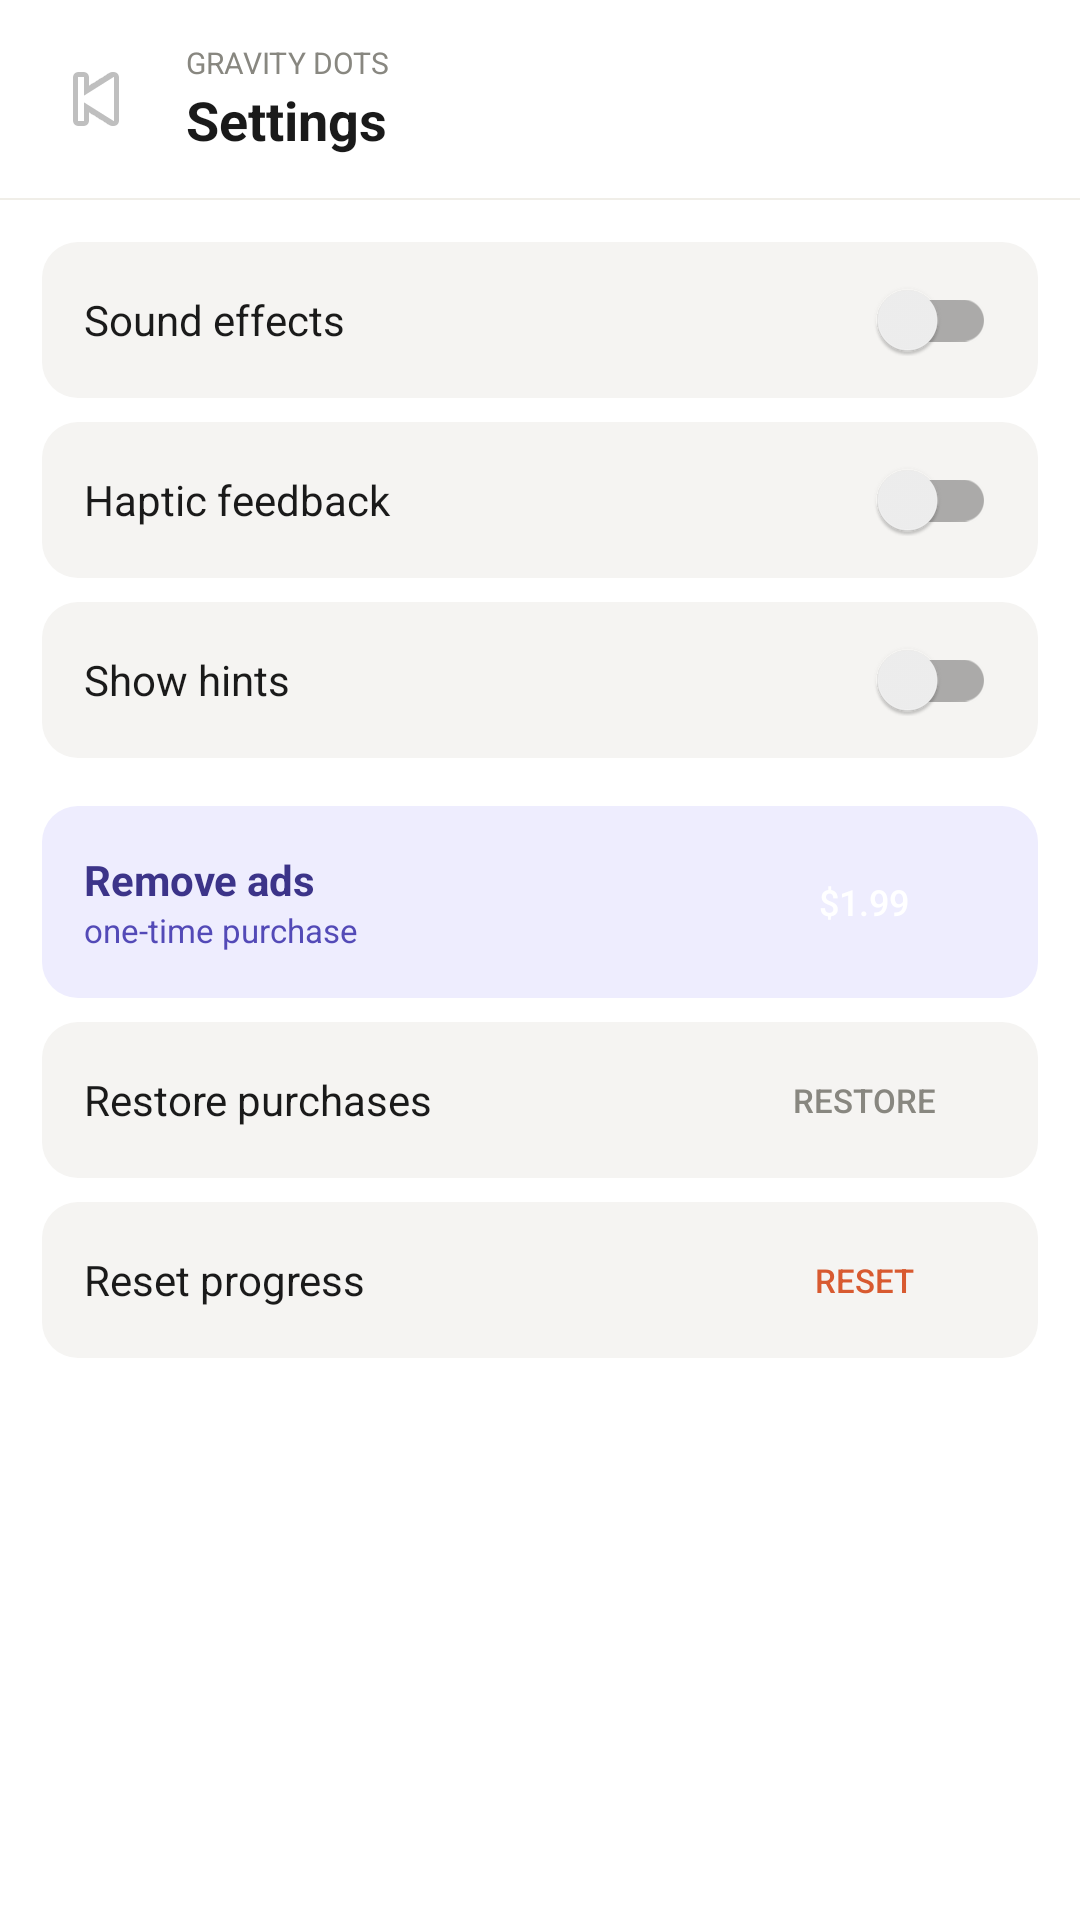

Icons on this 1080px×1920px Android screen, each with its box as (x1, y1, x2, y2):
Back: (73, 72, 119, 126)
